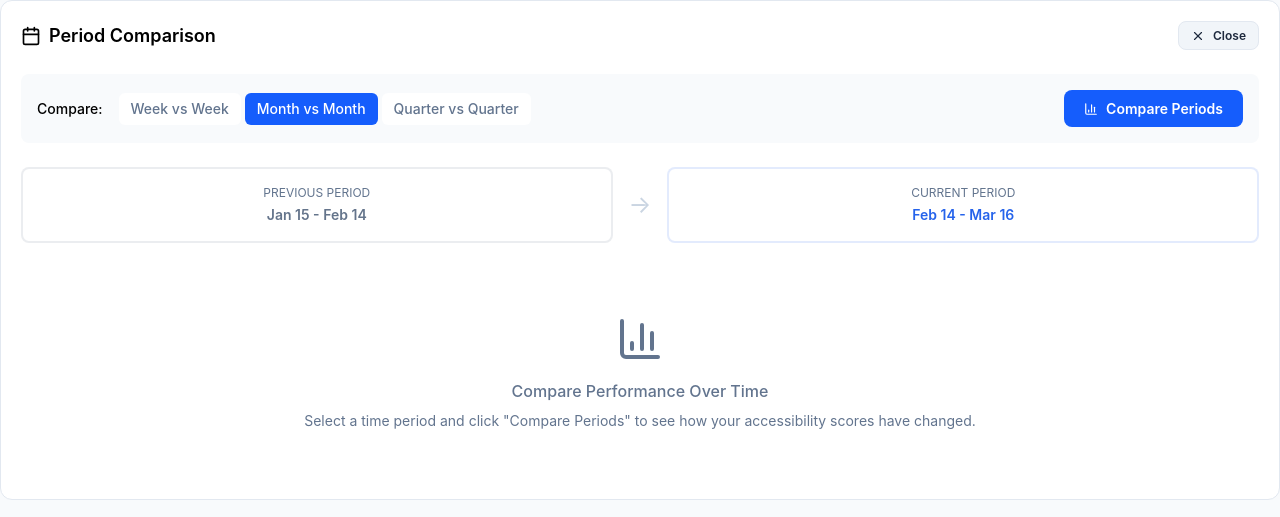
Test: reports/PeriodComparison › shows API error when success is false
The width and height of the screenshot is (1280, 517).
Step 1. Click the button "Compare Periods" → (1154, 108), box [1064, 90, 1243, 127]
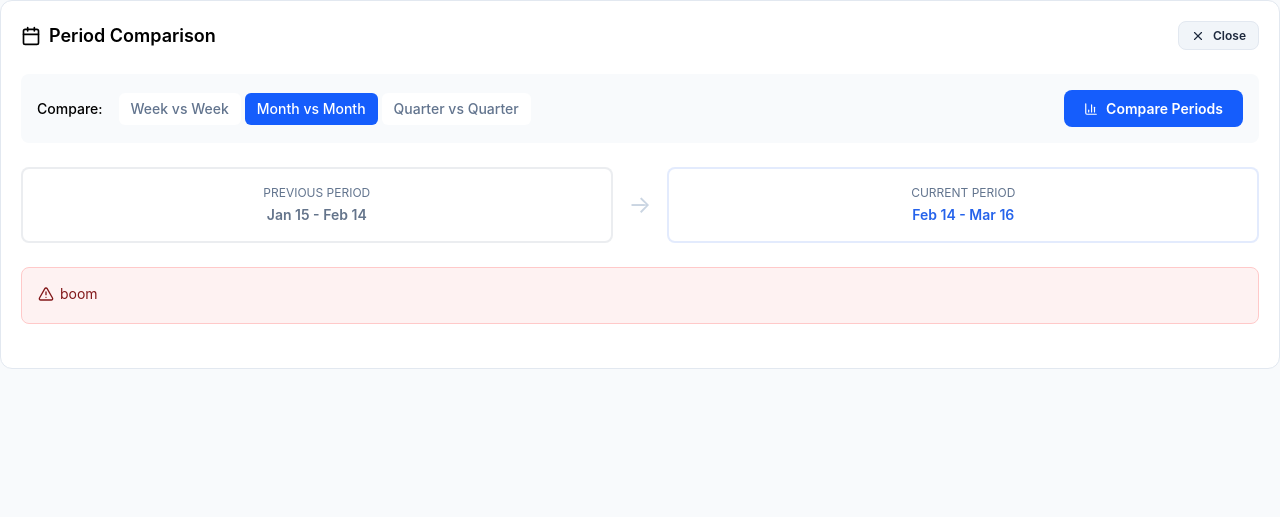
Now the text "boom" is shown, box [38, 284, 98, 304]
